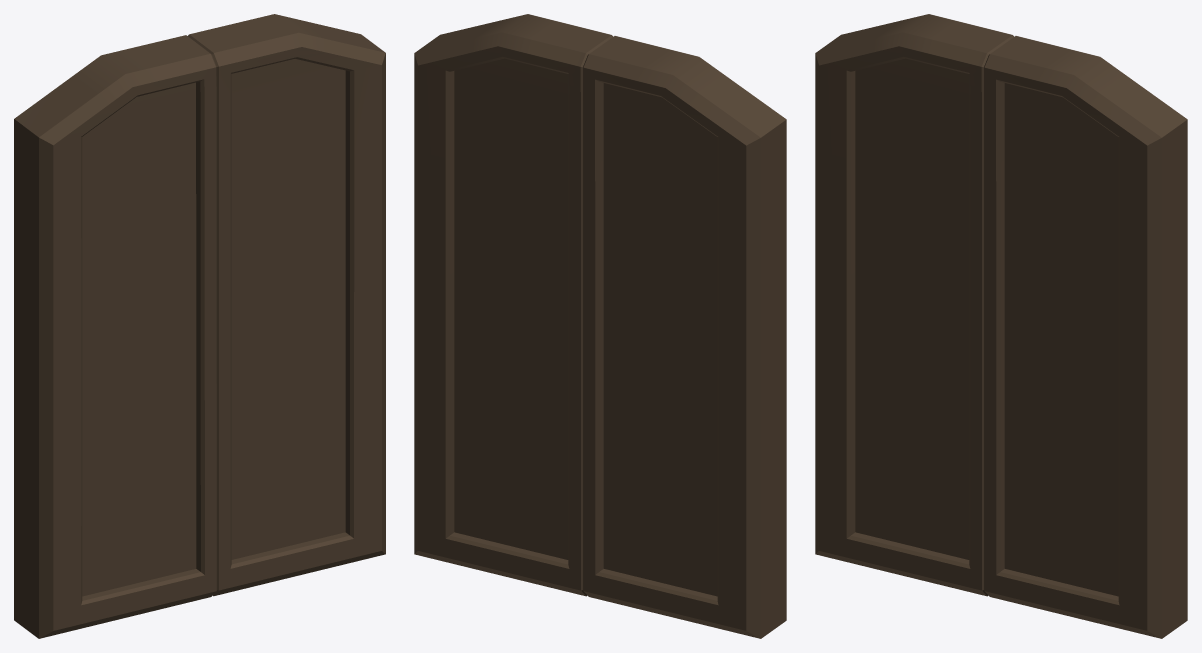
File: Alchemist_Door.fbx
3 views of the same model, side by side, from view 1: azimuth 30°, elevation 25°; view 2: azimuth 150°, elevation 25°; view 3: azimuth 330°, elevation 25° (orthographic).
Parts seen in each view (by area): view 1: Door_L, Door_L1; view 2: Door_L, Door_L1; view 3: Door_L1, Door_L.
Part boxes in pixels (x1,y1,x2,y2): Door_L: [14, 35, 216, 638]; Door_L1: [188, 14, 385, 596]; Door_L: [583, 36, 786, 638]; Door_L1: [414, 14, 613, 596]; Door_L1: [984, 36, 1187, 638]; Door_L: [815, 14, 1014, 596].
Bounding box in the file's own units: 1.67 × 2.5 × 0.3069.
